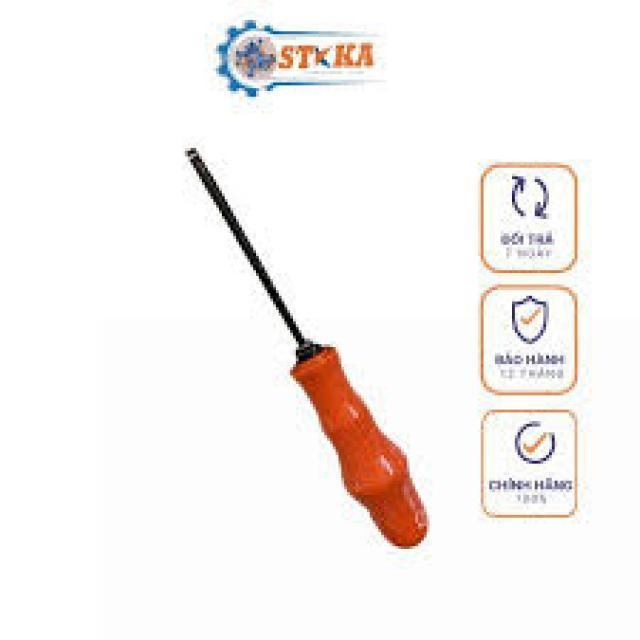screwdriver: (179, 137, 430, 554)
